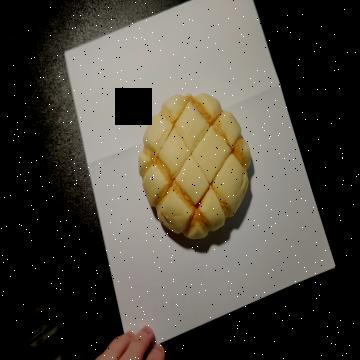melon_bread: (138, 92, 252, 248)
